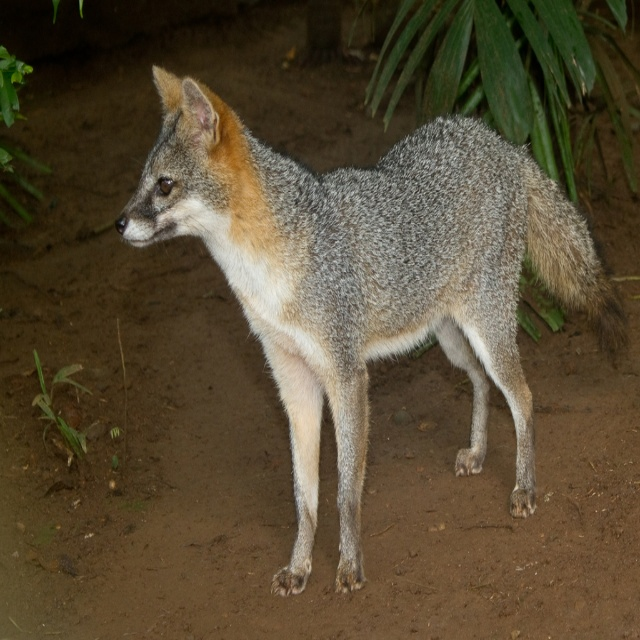Fox: (115, 66, 628, 597)
